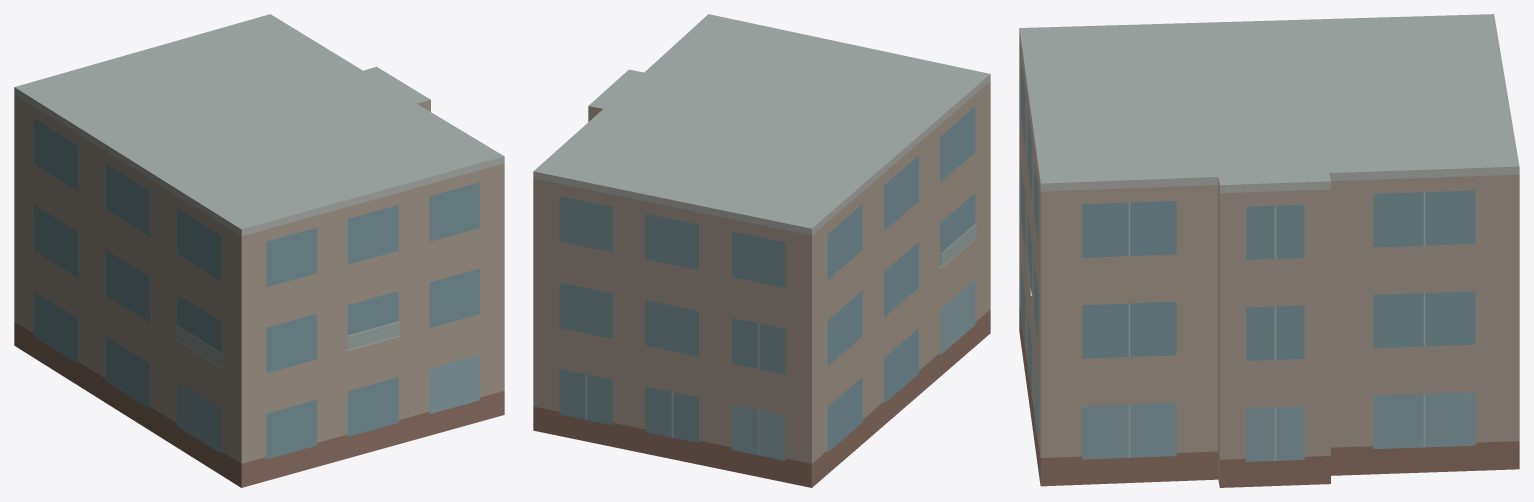
The model's file is survey-upis-32732299.glb.
3 renders of one model, left to right at view 1: azimuth 30°, elevation 25°; view 2: azimuth 150°, elevation 25°; view 3: azimuth 270°, elevation 25°, orthographic. The views are drawn at different scales.
Parts seen in each view (by area): view 1: survey-upis-32732299.tmp; view 2: survey-upis-32732299.tmp; view 3: survey-upis-32732299.tmp.
Part boxes in pixels (x1,y1,x2,y2): survey-upis-32732299.tmp: (14,14,504,487); survey-upis-32732299.tmp: (533,14,990,487); survey-upis-32732299.tmp: (1019,14,1519,487).
Bounding box in the file's own units: 11.11 × 9.15 × 13.71.
